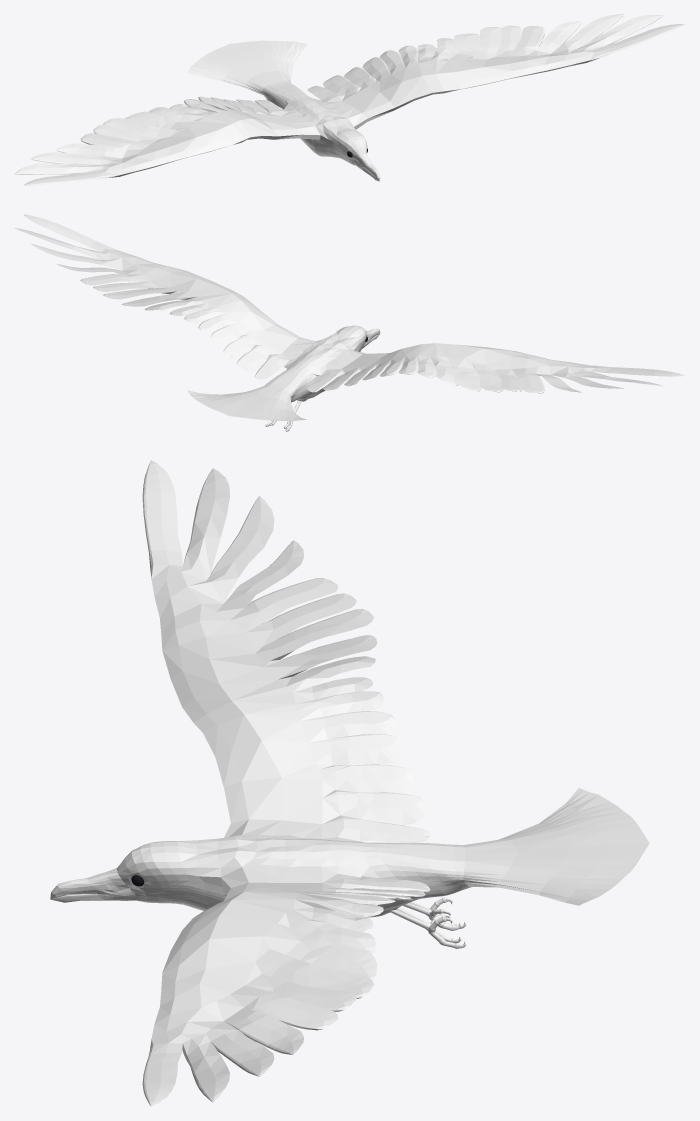
File: gull.obj
3 renders of one model, top to bottom at view 1: azimuth 30°, elevation 25°; view 2: azimuth 150°, elevation 25°; view 3: azimuth 270°, elevation 25°, orthographic. The views are drawn at different scales.
Bounding box in the file's own units: 0.5336 × 0.0601 × 0.2089.
2 materials, 1 textured.
